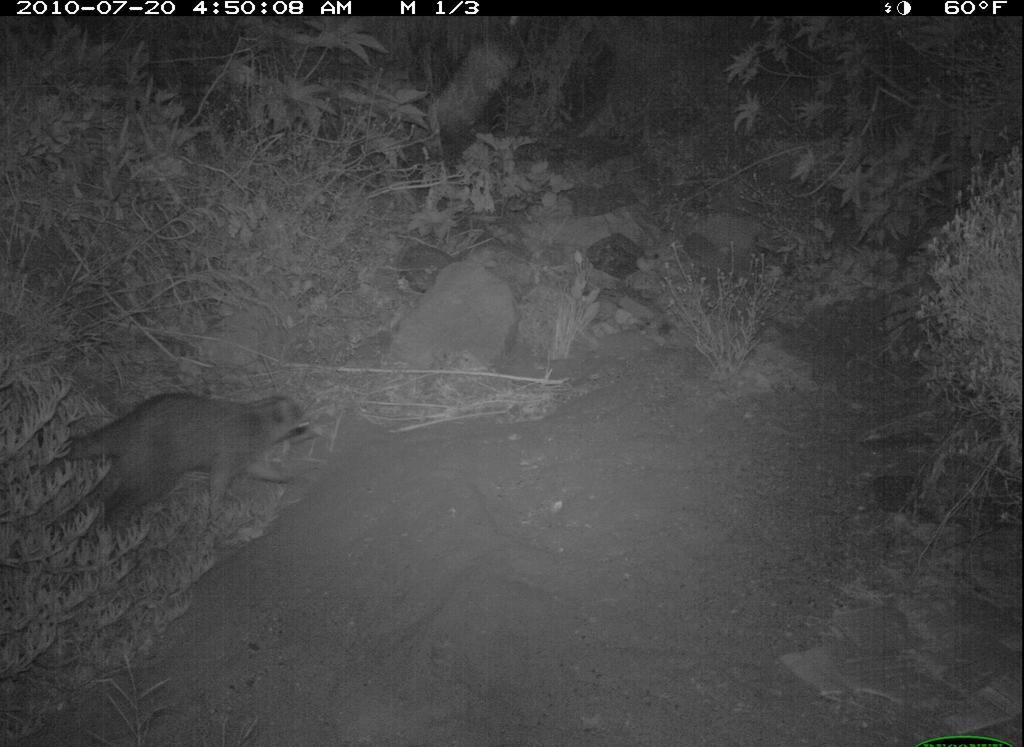raccoon: (57, 379, 319, 537)
